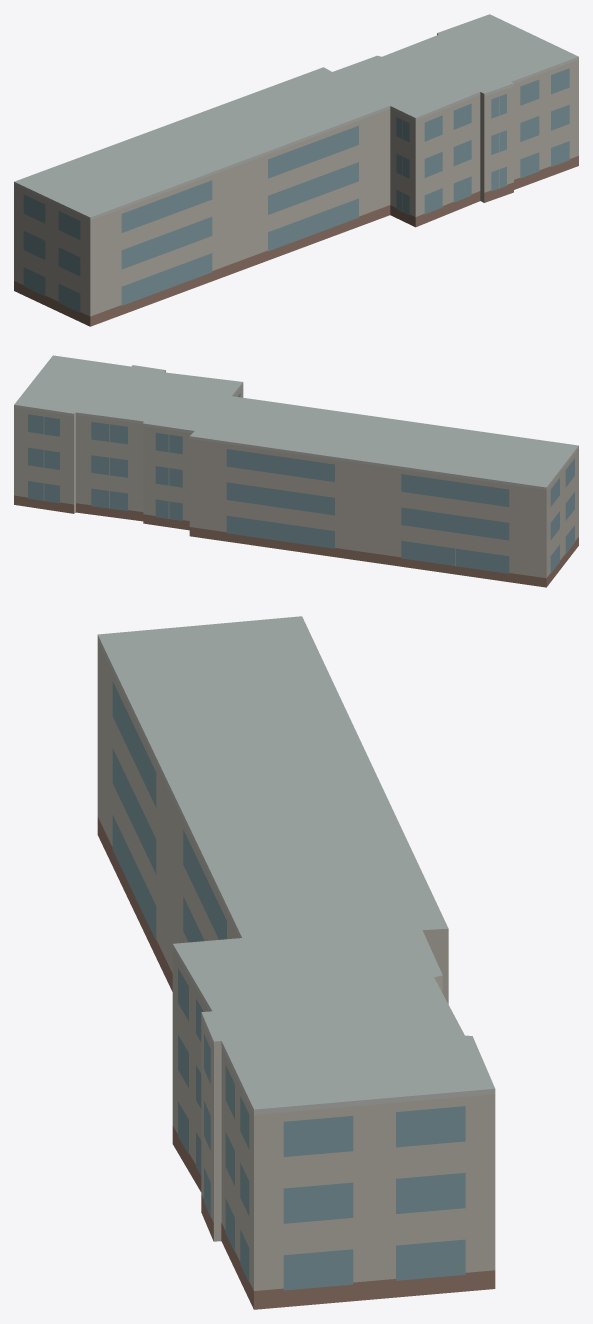
File: survey-upis-32945307.glb
3 views of the same model, one above another, from view 1: azimuth 30°, elevation 25°; view 2: azimuth 150°, elevation 25°; view 3: azimuth 270°, elevation 25° (orthographic). The views are drawn at different scales.
Parts seen in each view (by area): view 1: survey-upis-32945307.tmp; view 2: survey-upis-32945307.tmp; view 3: survey-upis-32945307.tmp.
Boxes of the visible parts, x1,y1,x2,y2 form: survey-upis-32945307.tmp: (14,14,578,326); survey-upis-32945307.tmp: (14,355,578,587); survey-upis-32945307.tmp: (97,616,495,1309).
Bounding box in the file's own units: 48.38 × 9.15 × 16.49.
